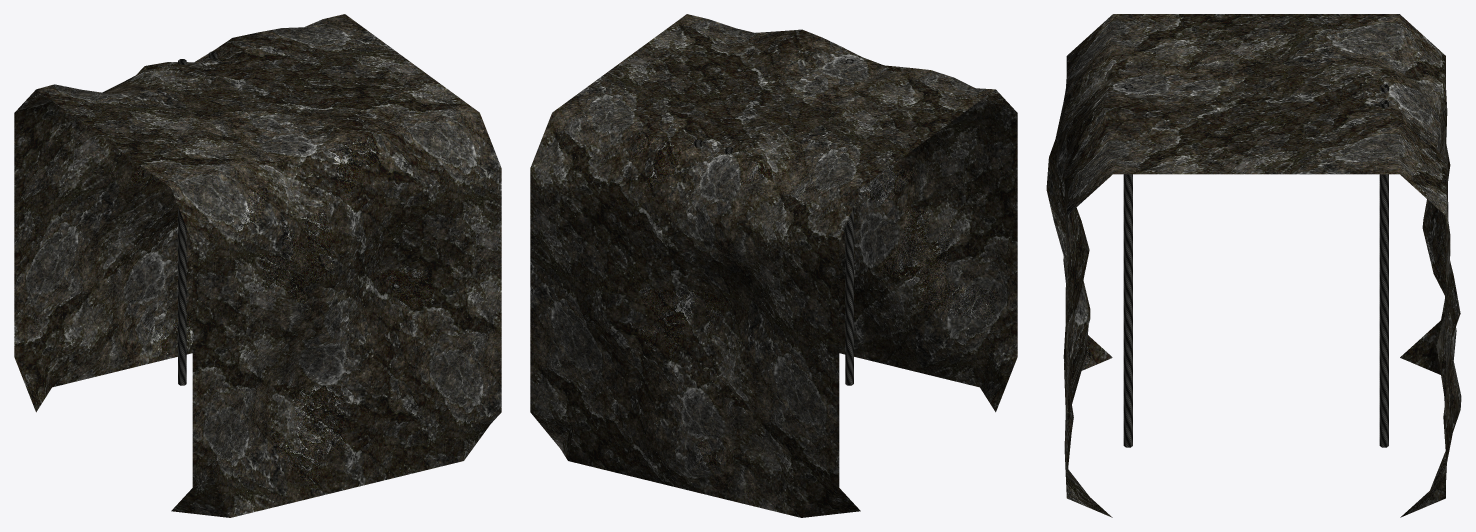
Rendered from Cave_086.fbx.
3 views of the same model, side by side, from view 1: azimuth 30°, elevation 25°; view 2: azimuth 150°, elevation 25°; view 3: azimuth 270°, elevation 25° (orthographic). The views are drawn at different scales.
Visible parts, largest first — view 1: Cave.086; view 2: Cave.086; view 3: Cave.086.
Part boxes in pixels (<box>): Cave.086: <box>14,14,501,517</box>; Cave.086: <box>530,14,1017,517</box>; Cave.086: <box>1046,14,1461,517</box>.
Size of the model in its own units: 300 by 308 by 328.
